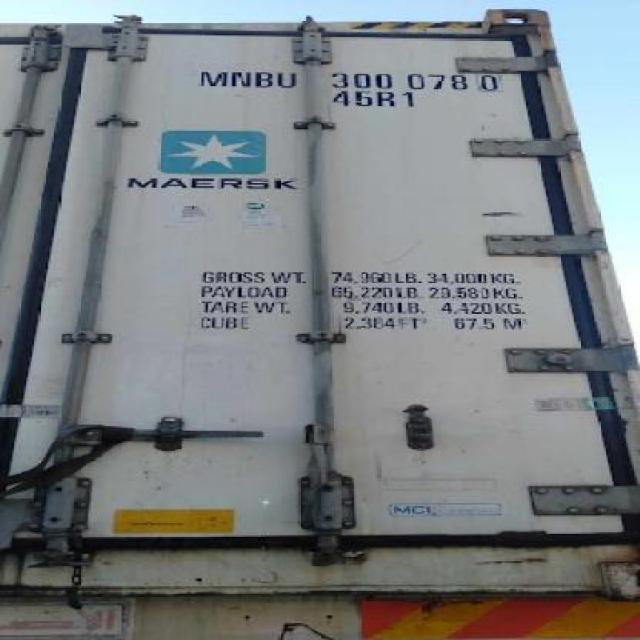ISO: (328, 86, 416, 111)
container_number: (198, 74, 501, 92)
